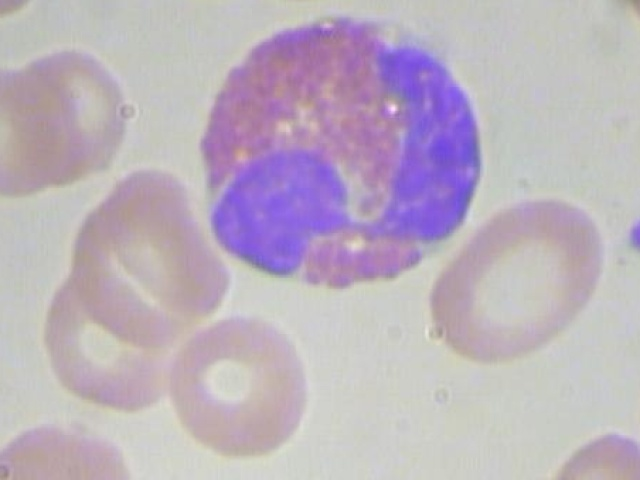Platelets: (609, 205, 640, 274)
RBC: (419, 180, 612, 378), (163, 303, 319, 468), (0, 49, 85, 214), (0, 403, 136, 480), (239, 0, 396, 10), (0, 0, 54, 26)
WBC: (187, 0, 500, 304)
